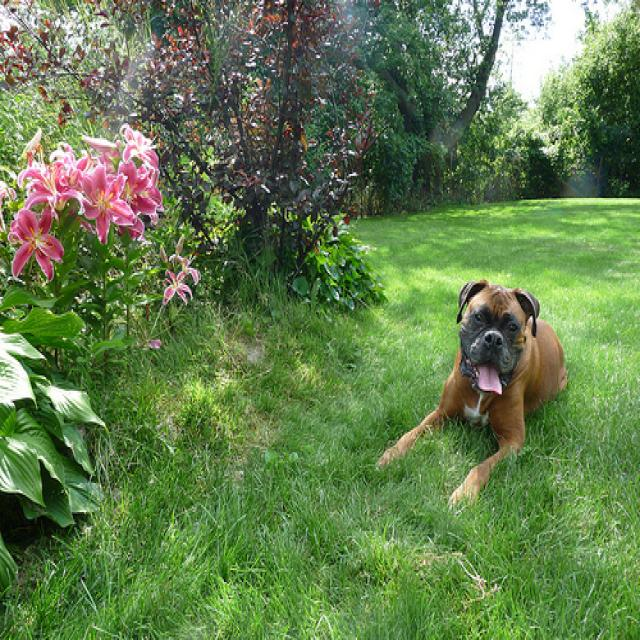dog-boxer: (370, 271, 576, 507)
